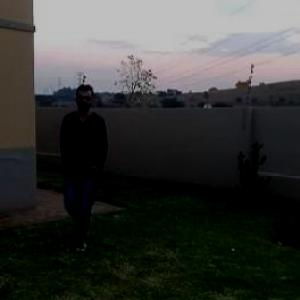follow: (55, 82, 109, 241)
